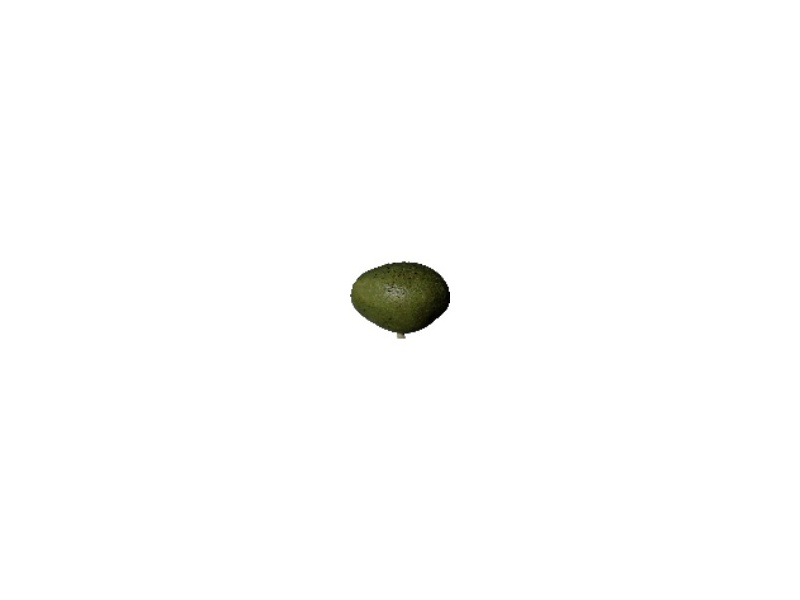abacate: (350, 260, 447, 329)
